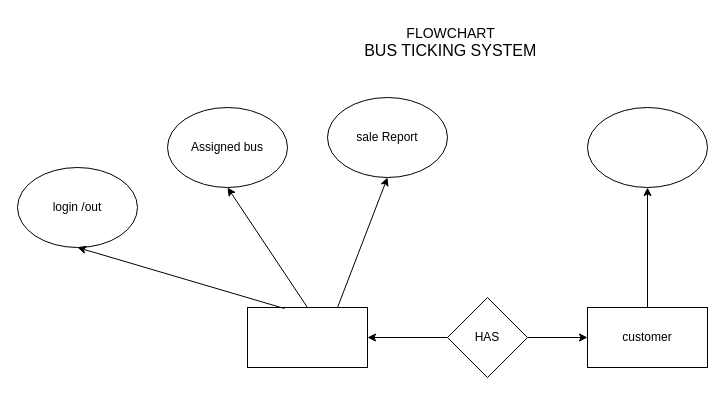
The diagram is 725 pixels wide and 395 high, and some of its shapes have lost their labels. The shapes that lost their labels are listed below. From the top down, each one's centre as x and y in pixels, then its label:
At (647,147): "location".
At (307,337): "ADMIN".
